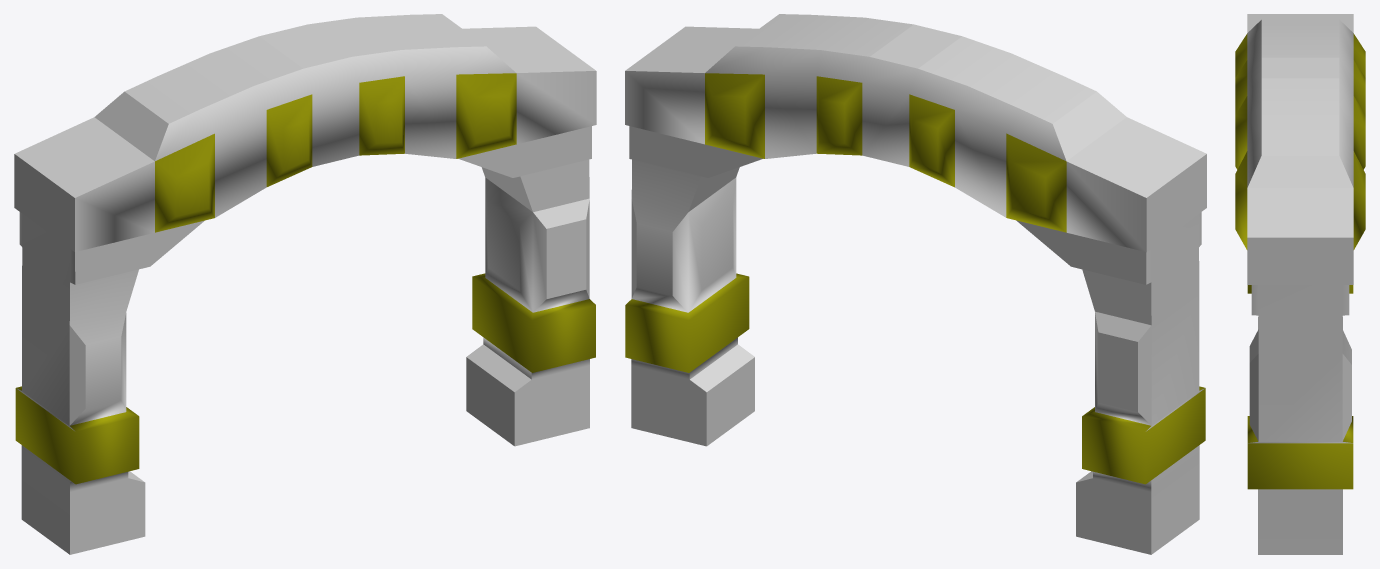
File: DoorArch.fbx
The picture shows the model from 3 angles, left to right: view 1: azimuth 30°, elevation 25°; view 2: azimuth 150°, elevation 25°; view 3: azimuth 270°, elevation 25°; orthographic projection. The views are drawn at different scales.
Parts seen in each view (by area): view 1: pCube5, pCube7, pCube6; view 2: pCube5, pCube7, pCube6; view 3: pCube5, pCube6.
Part boxes in pixels (x1,y1,x2,y2): pCube5: (14, 14, 596, 251); pCube7: (15, 212, 204, 554); pCube6: (458, 126, 595, 446); pCube5: (625, 14, 1206, 251); pCube7: (1016, 212, 1205, 554); pCube6: (625, 126, 762, 446); pCube5: (1235, 14, 1365, 284); pCube6: (1247, 285, 1353, 554).
Bounding box in the file's own units: 10.09 × 7.9 × 2.49.
